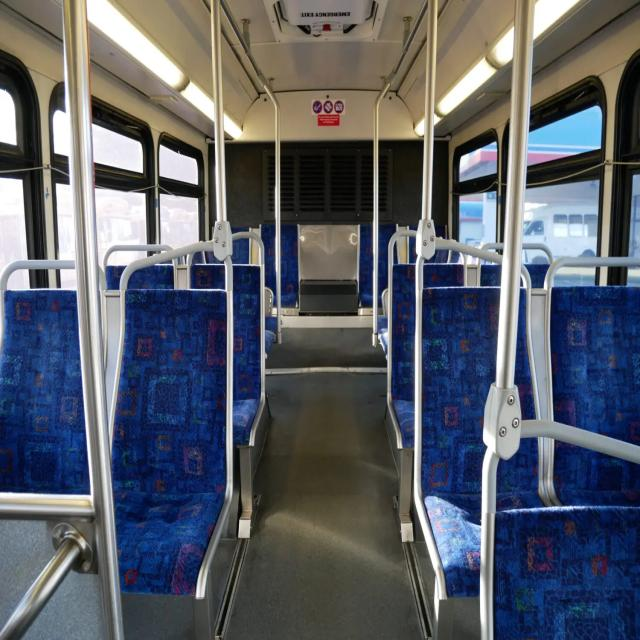empty-seat-frontal: (108, 239, 232, 598)
